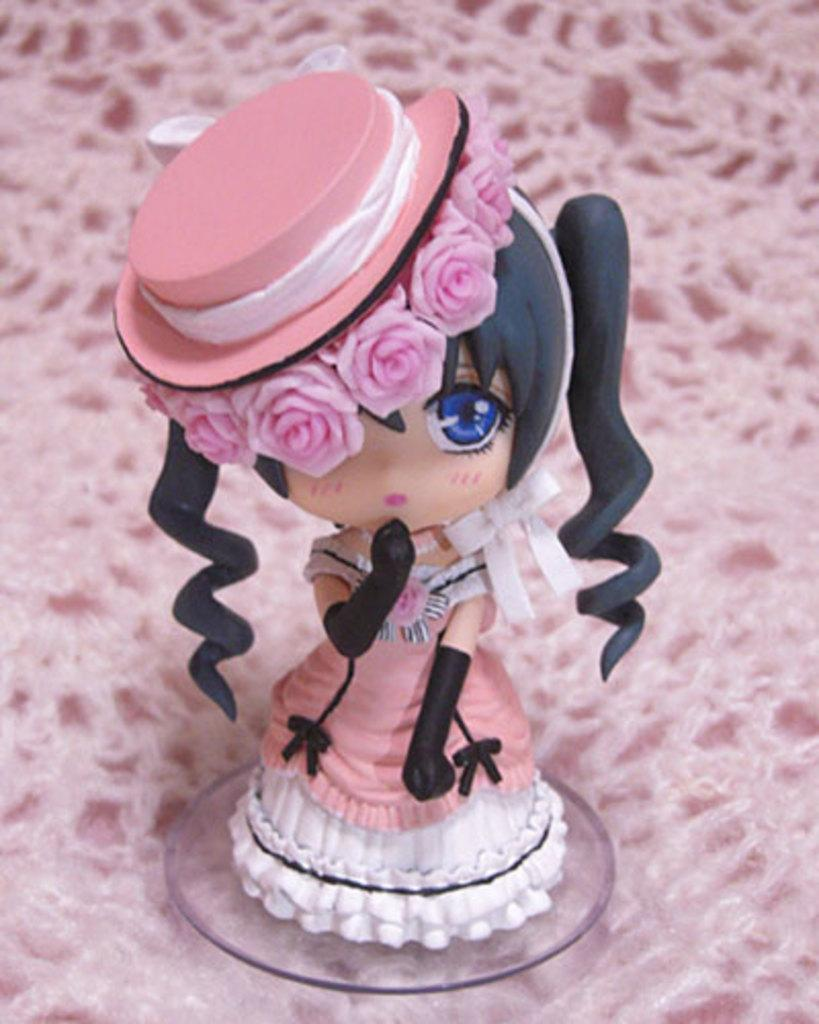Hat: (109, 41, 472, 393)
